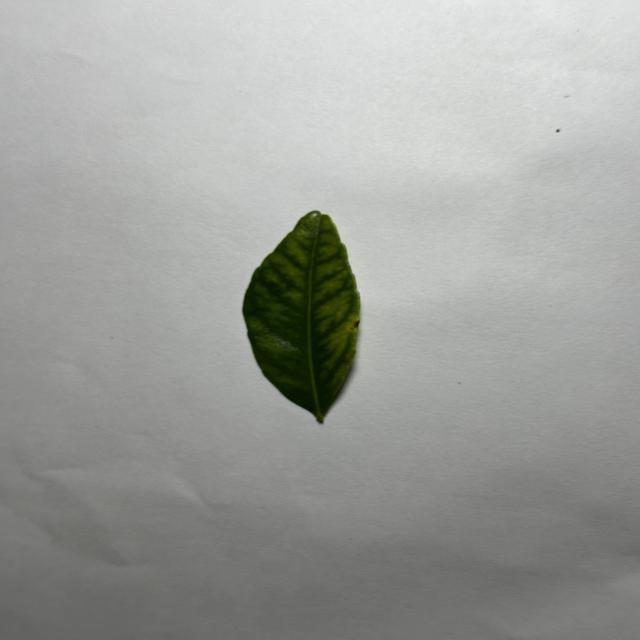greening: (243, 211, 360, 422)
